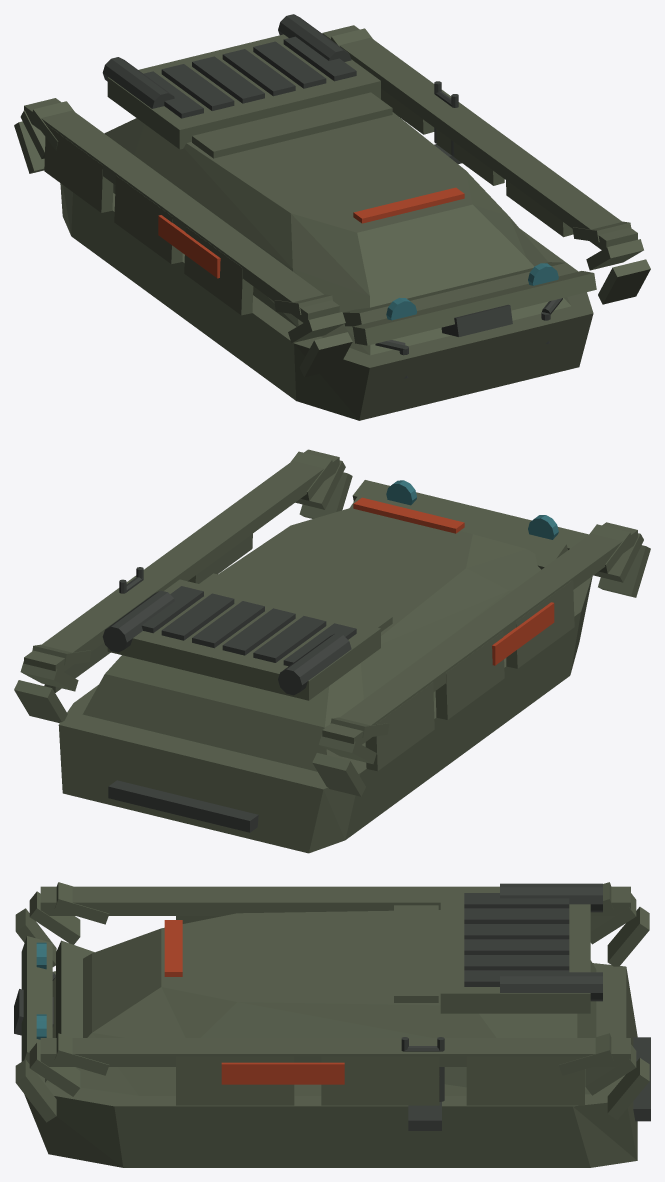
Rendered from Bastion_MT12_Hull.obj.
The picture shows the model from 3 angles, top to bottom: view 1: azimuth 30°, elevation 25°; view 2: azimuth 150°, elevation 25°; view 3: azimuth 270°, elevation 25°; orthographic projection. The views are drawn at different scales.
Visible parts, largest first — view 1: Bastion_MT12_Hull; view 2: Bastion_MT12_Hull; view 3: Bastion_MT12_Hull.
Part boxes in pixels (<box>): Bastion_MT12_Hull: <box>14,14,650,420</box>; Bastion_MT12_Hull: <box>14,449,650,853</box>; Bastion_MT12_Hull: <box>14,882,650,1167</box>.
Bounding box in the file's own units: 3.89 × 1.66 × 5.7.
Materials: 1 (1 with a texture image).
